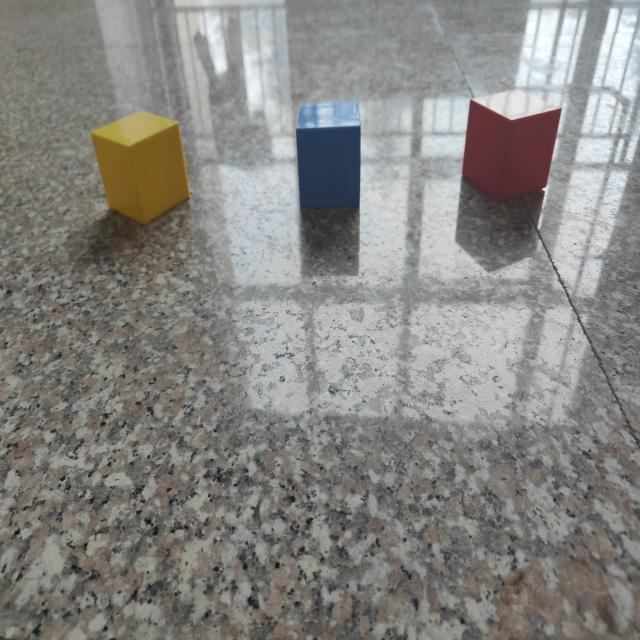blue: (296, 102, 362, 213)
pink: (461, 91, 563, 207)
yellow: (90, 112, 191, 226)
